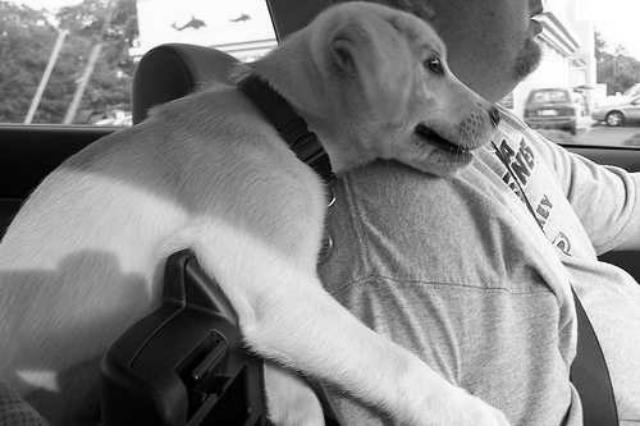Seatbelt: (490, 136, 624, 426)
